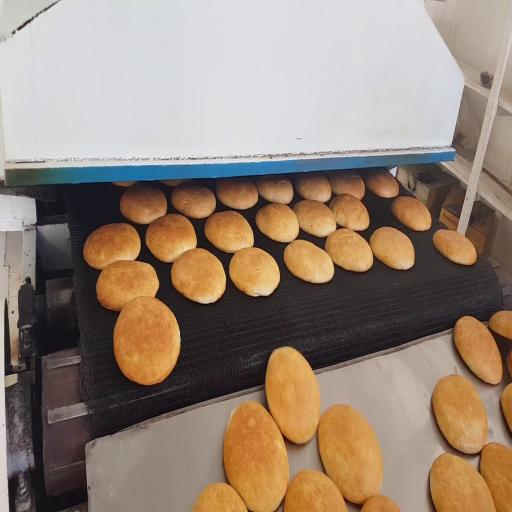bread: (224, 402, 289, 511), (318, 405, 383, 504), (114, 297, 180, 385), (266, 347, 320, 443), (432, 375, 487, 454), (430, 454, 495, 511), (454, 317, 502, 384), (96, 261, 159, 310), (171, 248, 226, 303), (83, 223, 140, 269), (284, 470, 347, 511), (229, 247, 279, 296), (146, 214, 196, 262), (284, 240, 334, 283), (480, 443, 511, 511), (326, 229, 373, 272), (205, 211, 253, 253), (120, 183, 167, 224), (370, 227, 414, 270), (256, 203, 299, 242), (171, 182, 215, 219), (433, 229, 476, 265), (293, 201, 336, 237), (192, 483, 247, 511), (330, 194, 369, 231), (392, 196, 431, 231), (216, 179, 258, 210), (256, 176, 293, 204), (329, 172, 365, 200), (296, 174, 331, 202), (365, 170, 399, 198), (361, 495, 401, 511), (489, 311, 511, 339), (501, 384, 511, 432), (161, 179, 187, 187), (113, 182, 136, 187), (507, 350, 511, 378)
